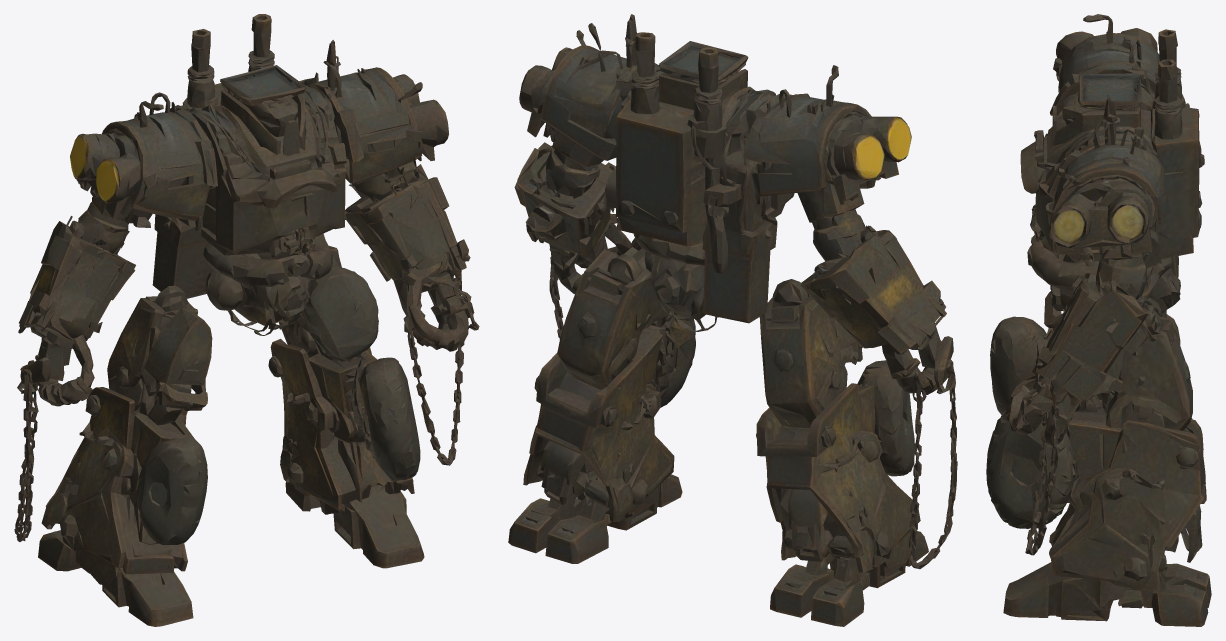
File: raid_scrapking.glb
3 views of the same model, side by side, from view 1: azimuth 30°, elevation 25°; view 2: azimuth 150°, elevation 25°; view 3: azimuth 270°, elevation 25° (orthographic). The views are drawn at different scales.
Bounding box in the file's own units: 1.66 × 1.9 × 0.7584.
Materials: 1 (1 with a texture image).
